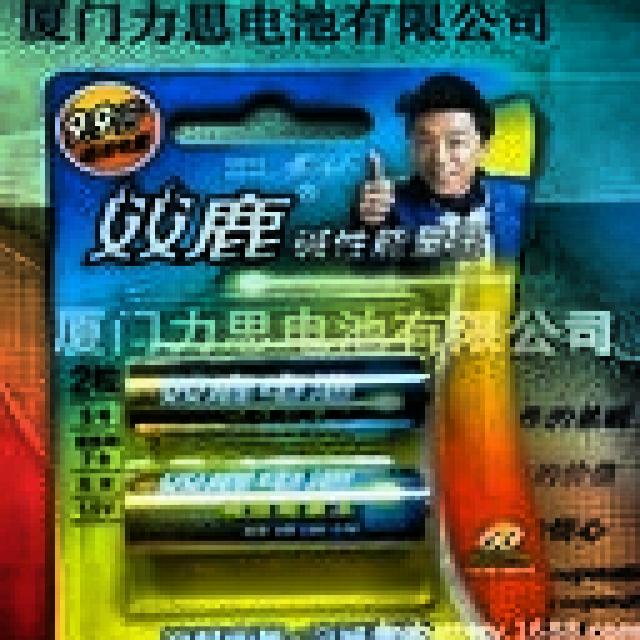Non-Valuable Waste - Batteries: (127, 358, 431, 550)
